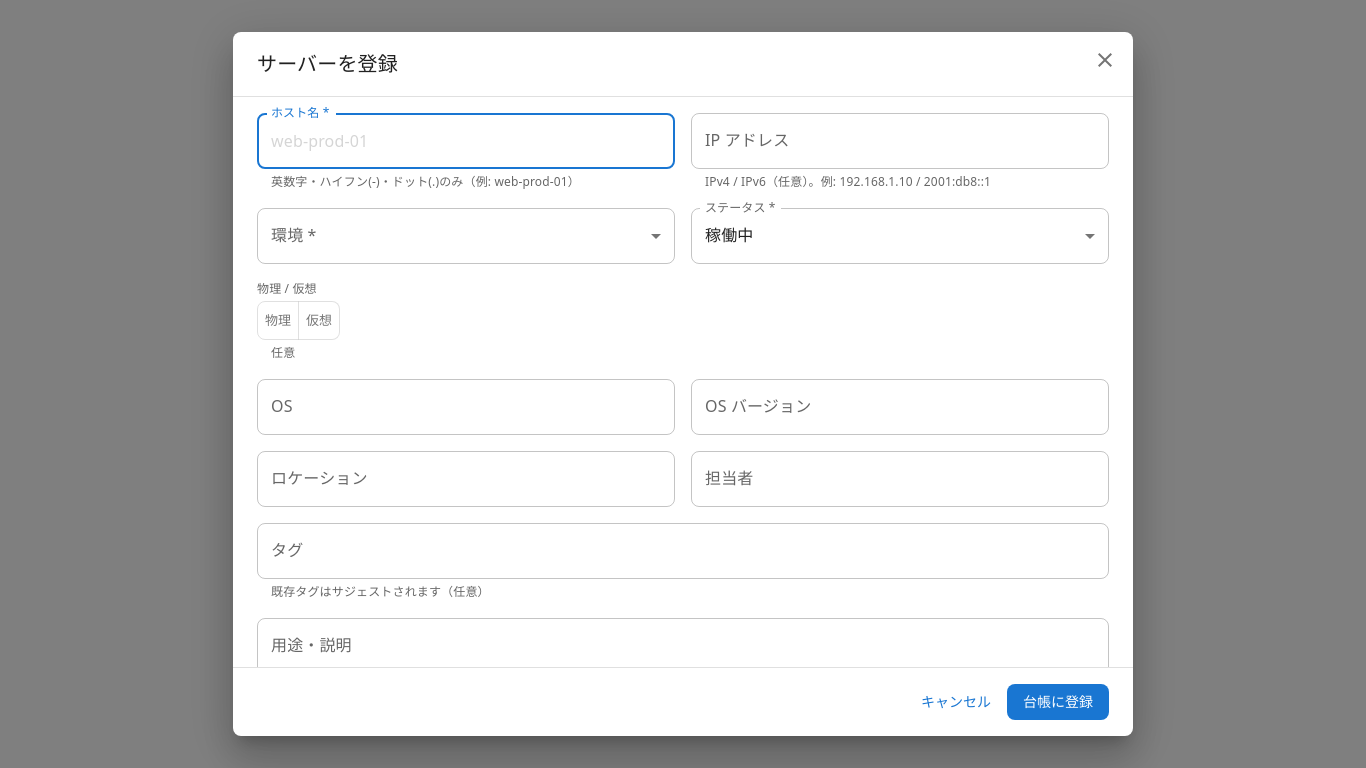
Test case: ServerFormModal (create) › 409 DUPLICATE_HOSTNAME を hostname フィールドに表示する
The width and height of the screenshot is (1366, 768).
Step 1. Type "dup-host" into the field labelled "ホスト名 *" → (466, 141), box [257, 113, 675, 169]
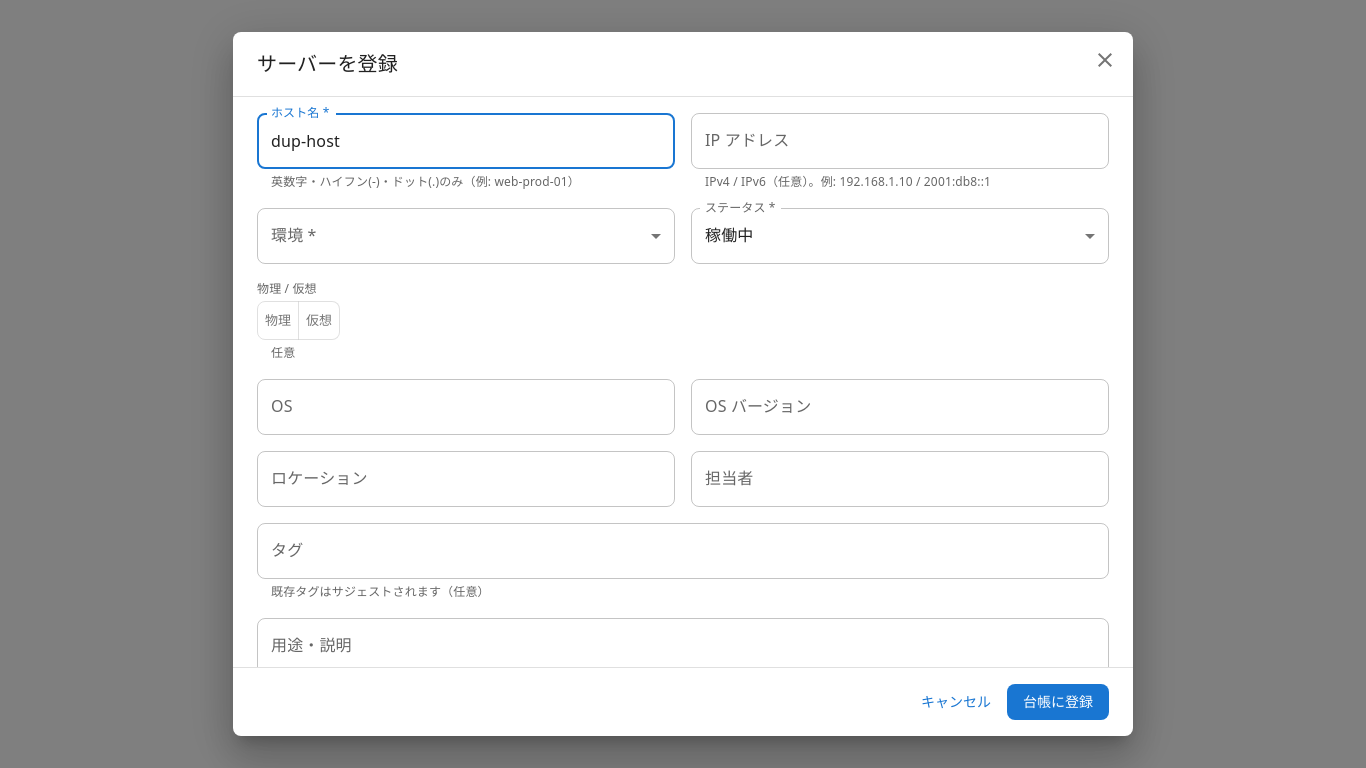
Step 2. Click the dropdown named "環境 *" → (466, 236), box [257, 208, 675, 264]
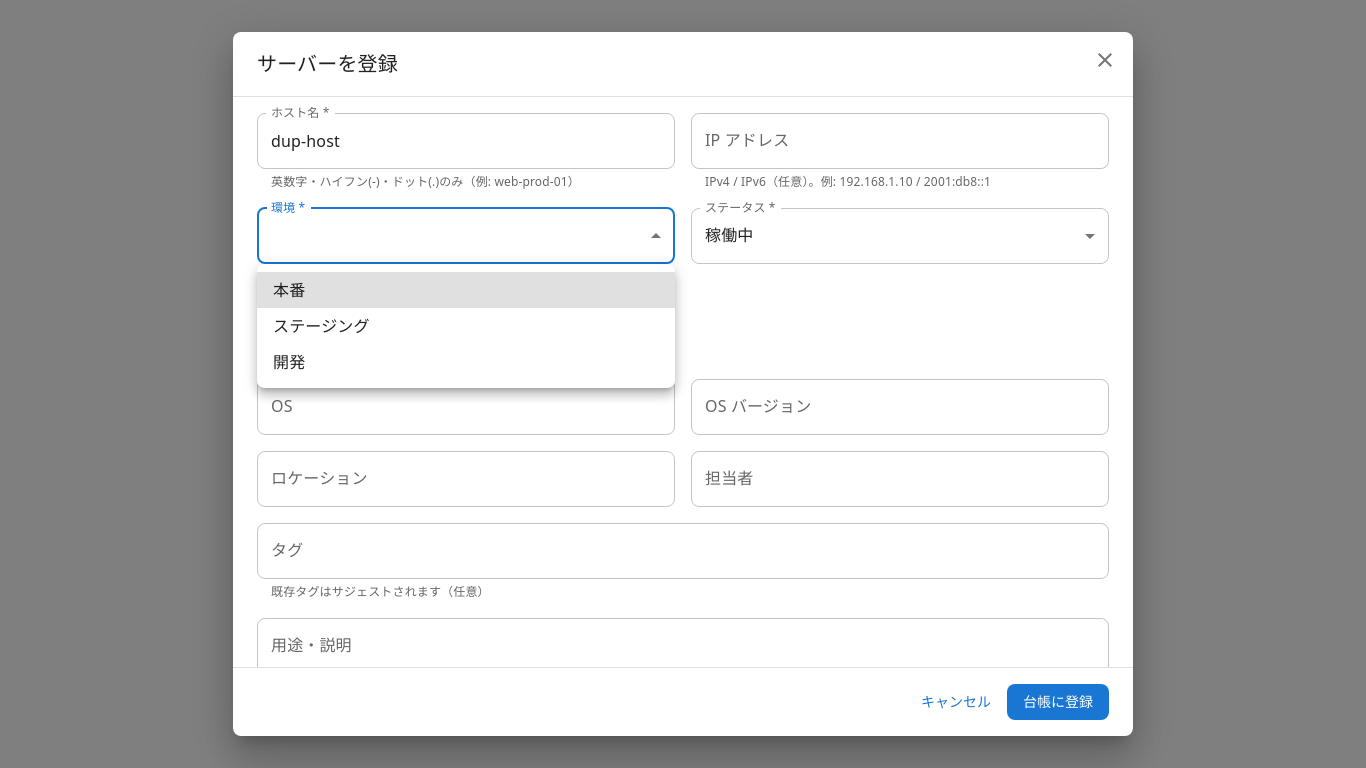
Step 3. Click the option "本番" → (289, 290), box [257, 272, 675, 308]
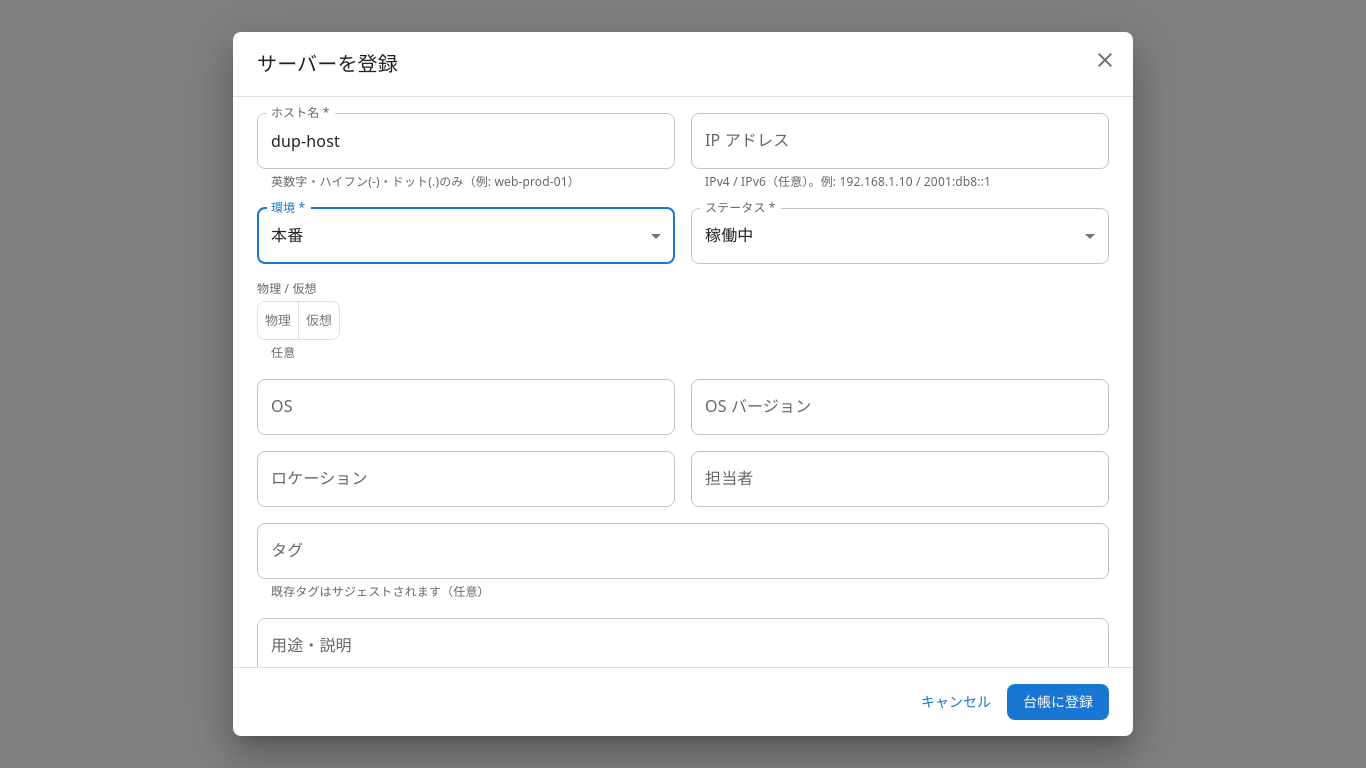
Step 4. Click the button "台帳に登録" → (1058, 702), box [1007, 684, 1109, 720]
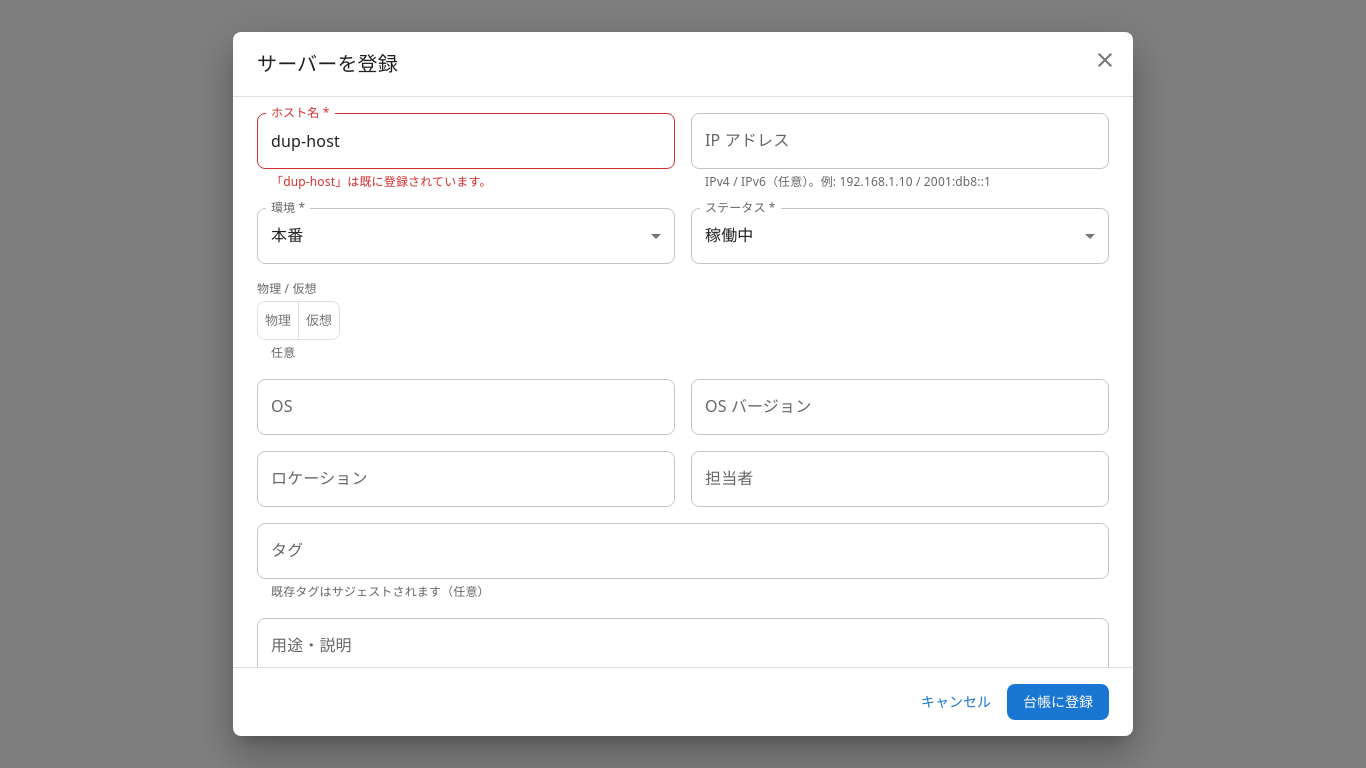
Expected: the text "「dup-host」は既に登録されています。" is shown, [271, 173, 492, 190]
